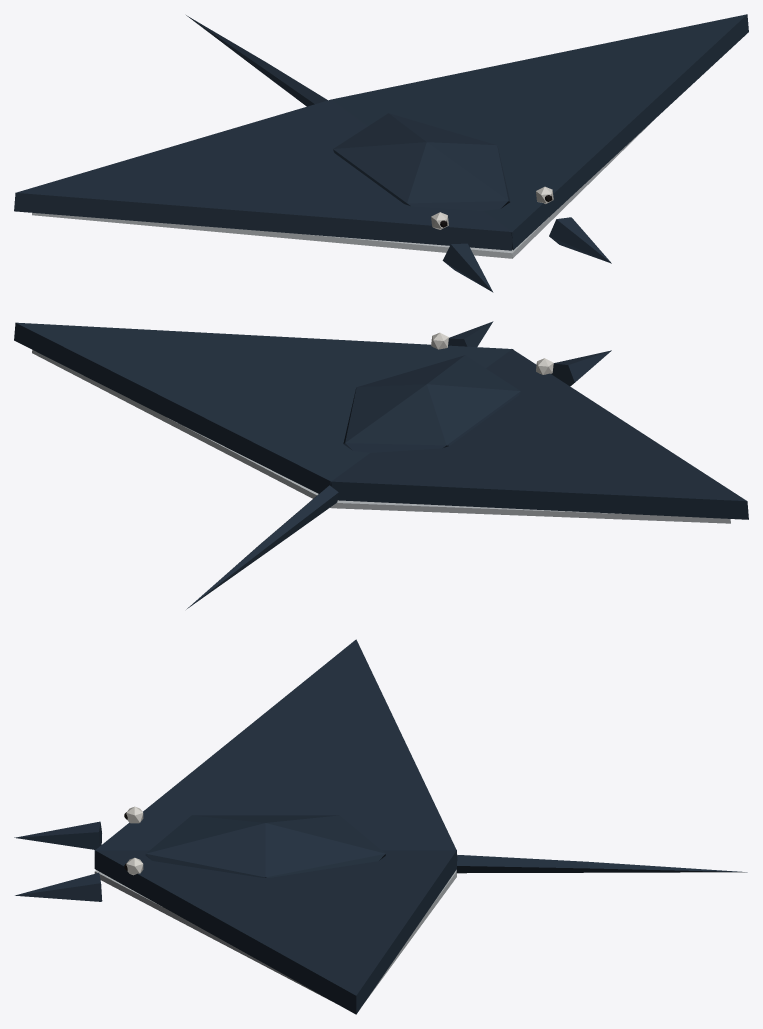
File: animal_manta_ray.glb
The picture shows the model from 3 angles, top to bottom: view 1: azimuth 30°, elevation 25°; view 2: azimuth 150°, elevation 25°; view 3: azimuth 270°, elevation 25°; orthographic projection.
Visible parts, largest first — view 1: animal_manta_ray; view 2: animal_manta_ray; view 3: animal_manta_ray.
Boxes of the visible parts, x1=… form: animal_manta_ray: x1=14, y1=14, x2=748, y2=292; animal_manta_ray: x1=14, y1=321, x2=748, y2=609; animal_manta_ray: x1=14, y1=639, x2=747, y2=1014.
Size of the model in its own units: 4.21 by 0.4298 by 3.65.
